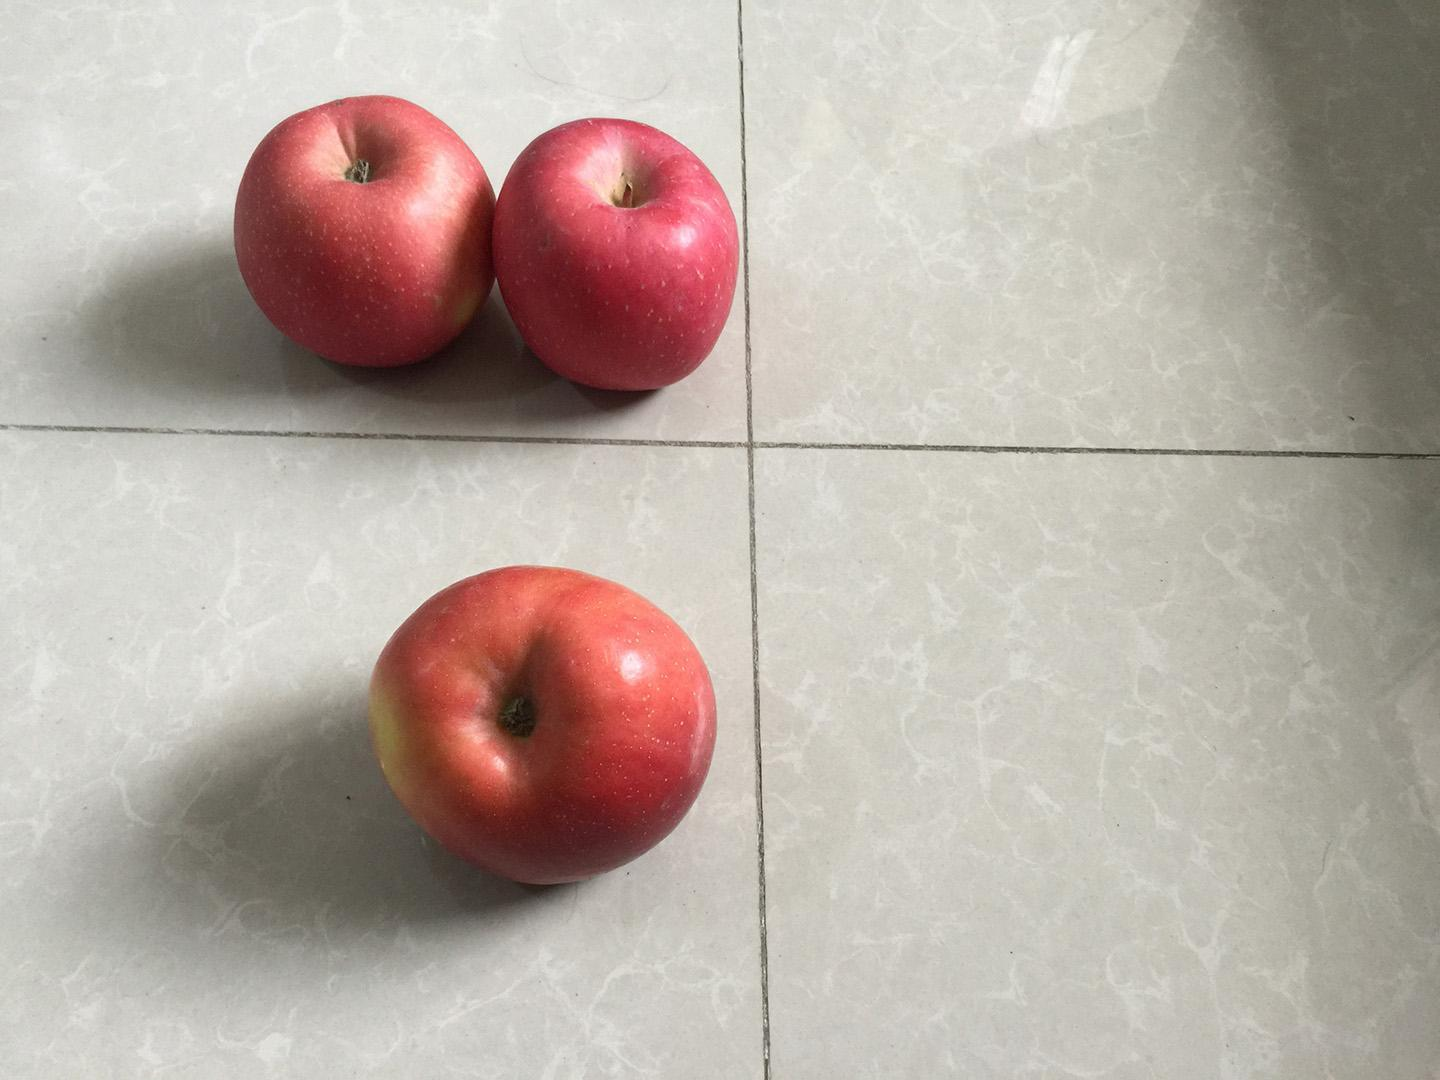apple: (358, 552, 728, 895), (230, 90, 503, 378), (488, 110, 748, 397)
